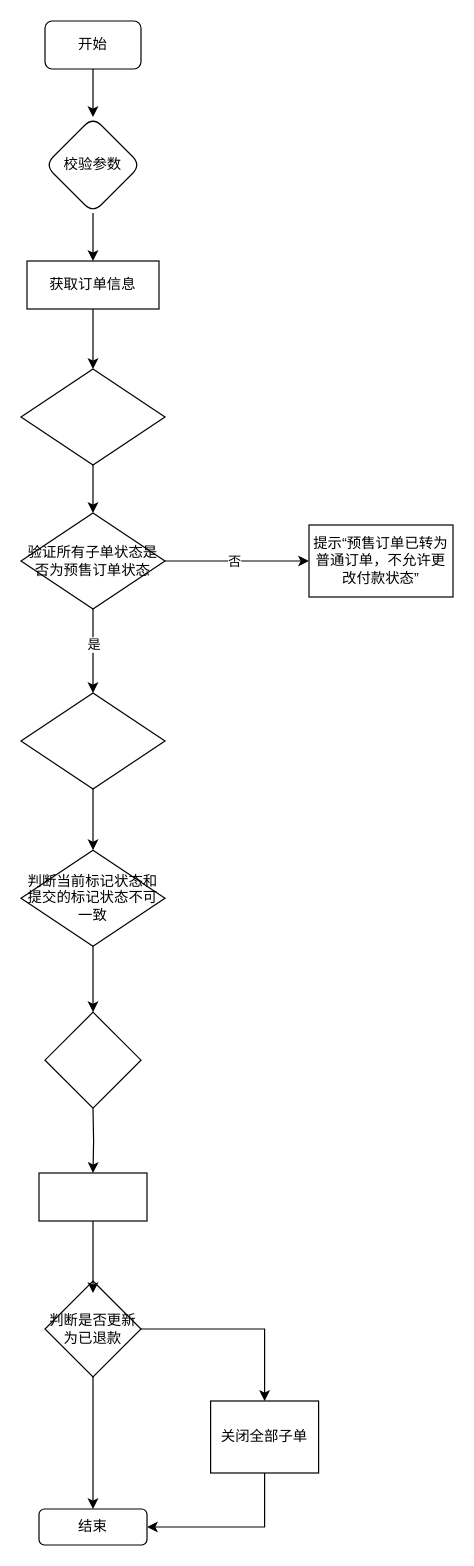
Image size: 474x1566. Some labels were removed from this diagram. Each missing label, with the box of its shape:
保存标记状态: (38, 1172, 147, 1221)
判断当前标记状态是已退款不允许操作: (20, 692, 165, 789)
判断提交的状态: (44, 1011, 141, 1108)
验证子单品牌必须为为1688品牌: (20, 368, 165, 465)
